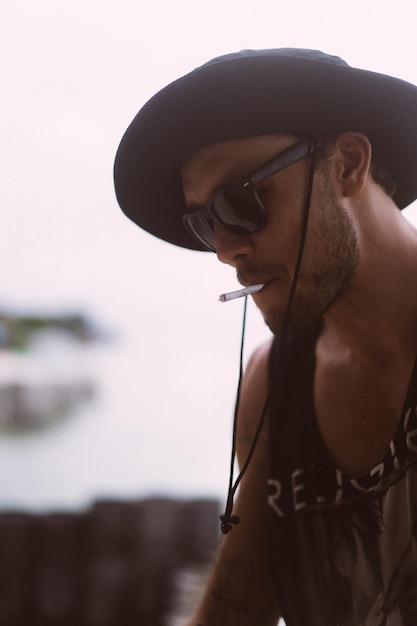cigarette: (219, 281, 267, 304)
